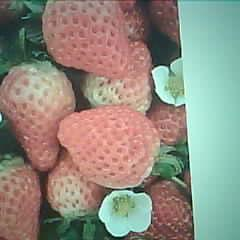straw-ripe: (60, 107, 159, 188), (1, 67, 76, 170), (44, 0, 131, 74)
